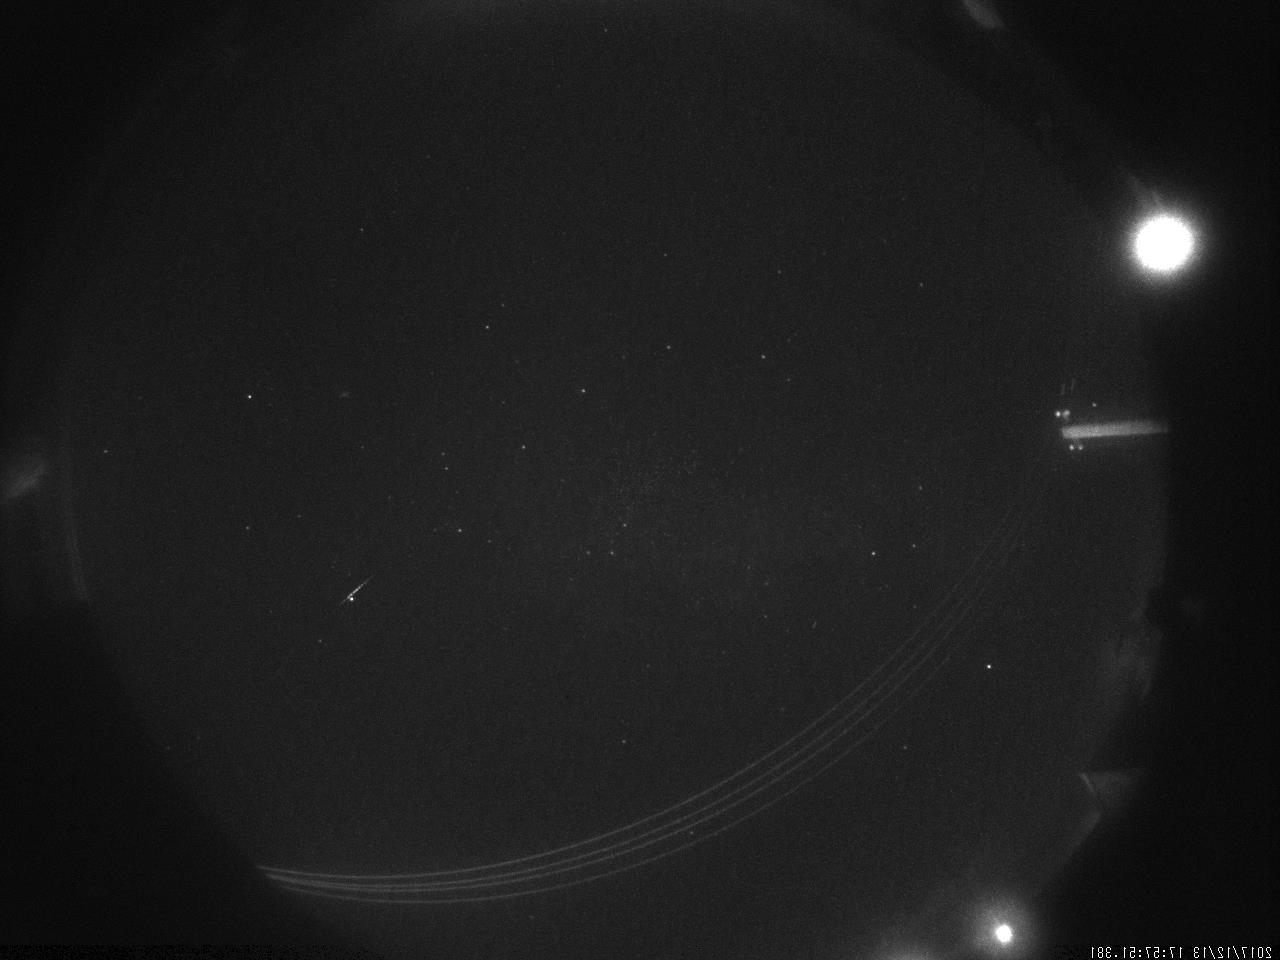meteor: (320, 566, 382, 619)
